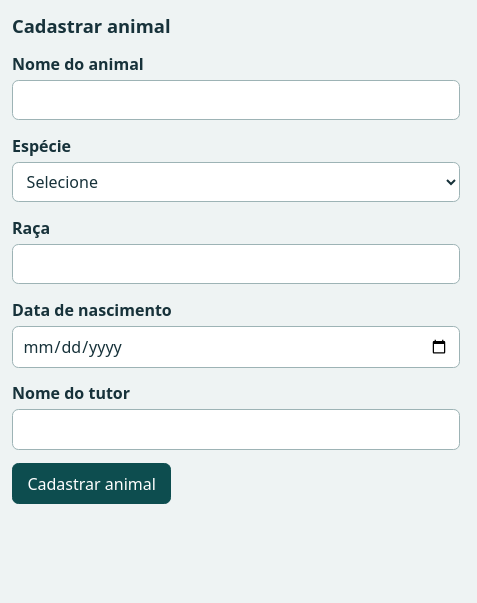
Test case: Formulário de cadastro de animais › Teste 11 (interação) – clicar em "Cadastrar animal" com o formulário vazio deve mostrar as mensagens de validação e não chamar onSalvar
Click the button "Cadastrar animal". click: (92, 484)
box: 12,464 -> 171,504
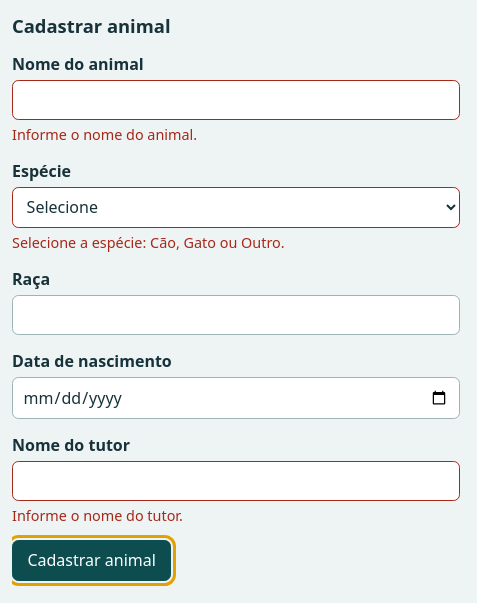
Expected: the text "Informe o nome do animal." is shown, 12,125 -> 197,144
Expected: the text "Selecione a espécie: Cão, Gato ou Outro." is shown, 12,233 -> 285,252
Expected: the text "Informe o nome do tutor." is shown, 12,506 -> 183,525
